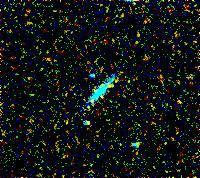star: (96, 72, 126, 102)
